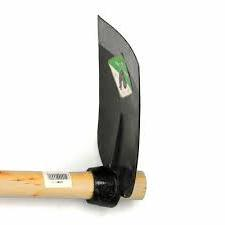HOUE: (0, 0, 158, 225)
